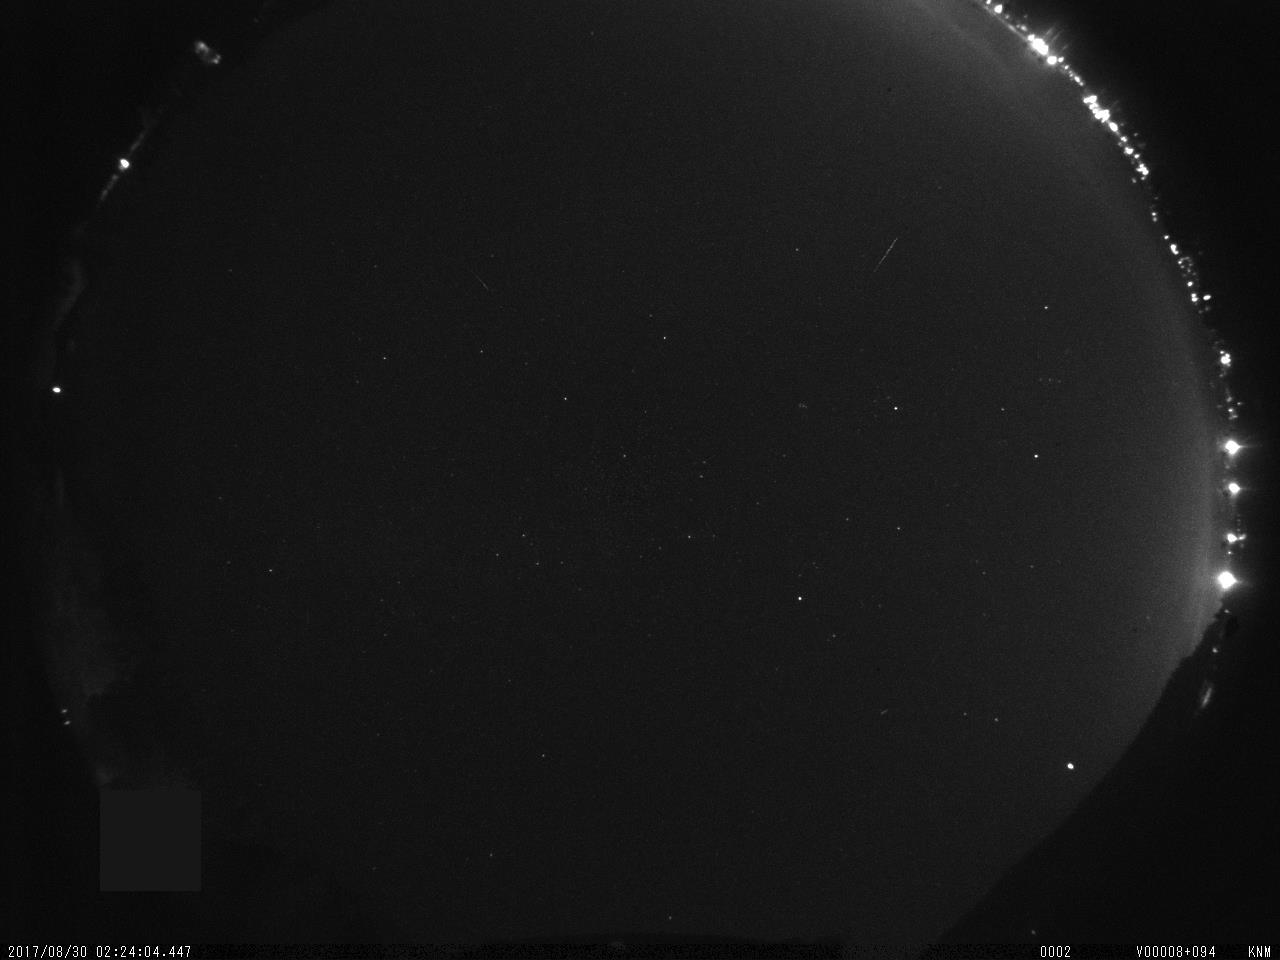meteor: (855, 222, 909, 302)
